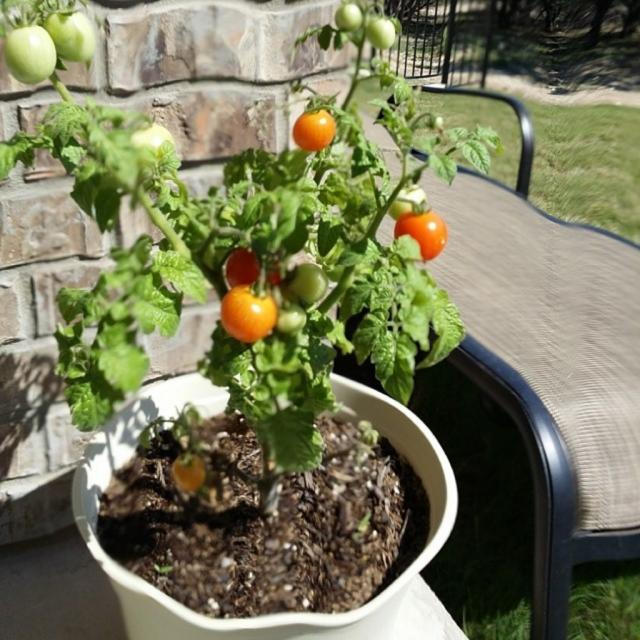Tomato: (221, 269, 287, 341), (390, 206, 450, 265), (4, 27, 62, 84), (43, 9, 101, 59), (227, 249, 282, 293), (286, 259, 330, 306), (293, 109, 339, 152), (383, 178, 426, 219), (135, 123, 174, 168), (278, 301, 308, 337), (367, 15, 399, 48), (334, 3, 367, 34), (172, 461, 199, 496)
